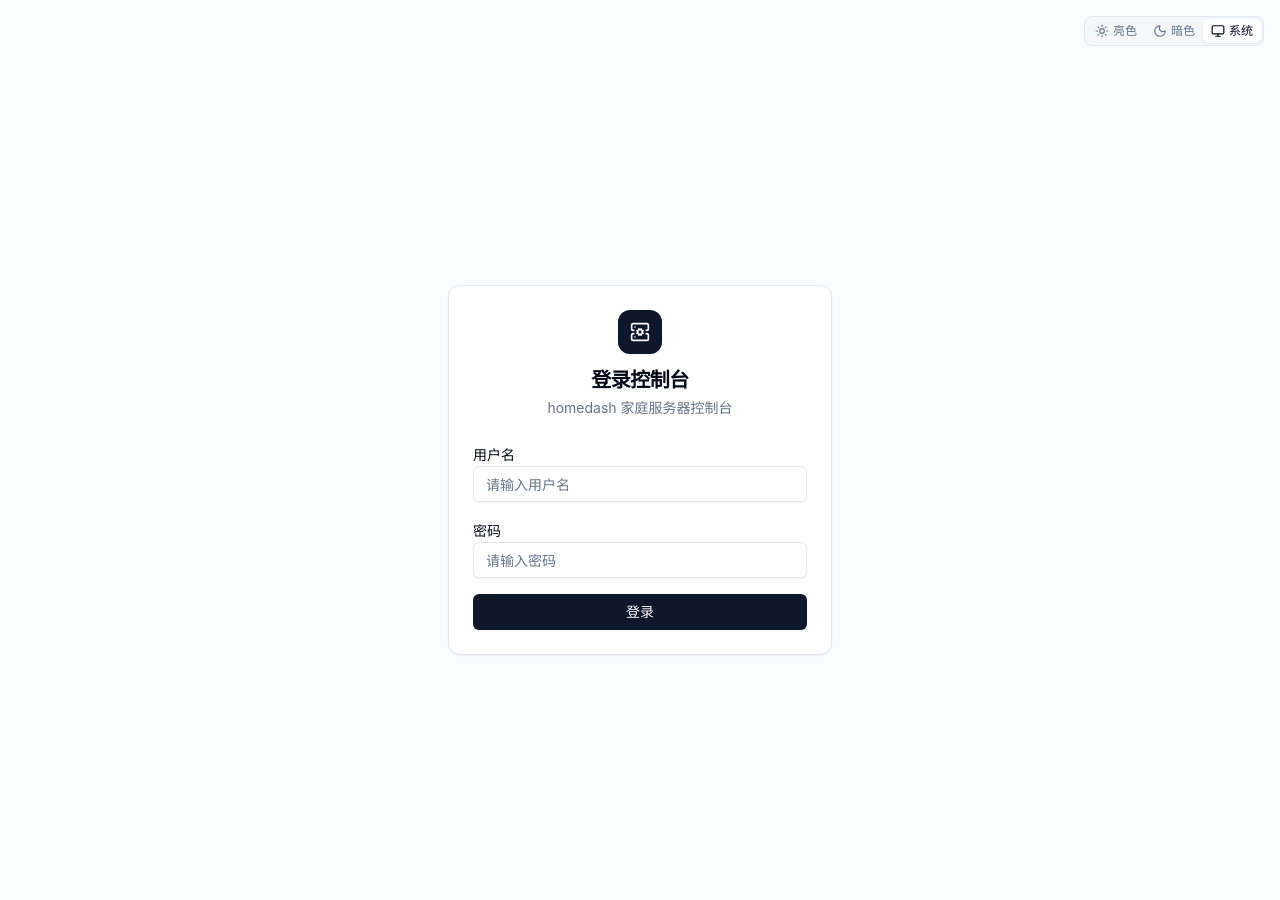
Scenario: homedash 前端认证与控制台 › 登录成功后进入控制台，展示总览卡片、占位页、404 页面并支持退出登录
This screenshot has width=1280, height=900.
Expected: the button "登录" is shown, [473,594,807,630]
Type "admin" into the field labelled "用户名".
click(640, 484); type("admin")  # box [473,466,807,502]
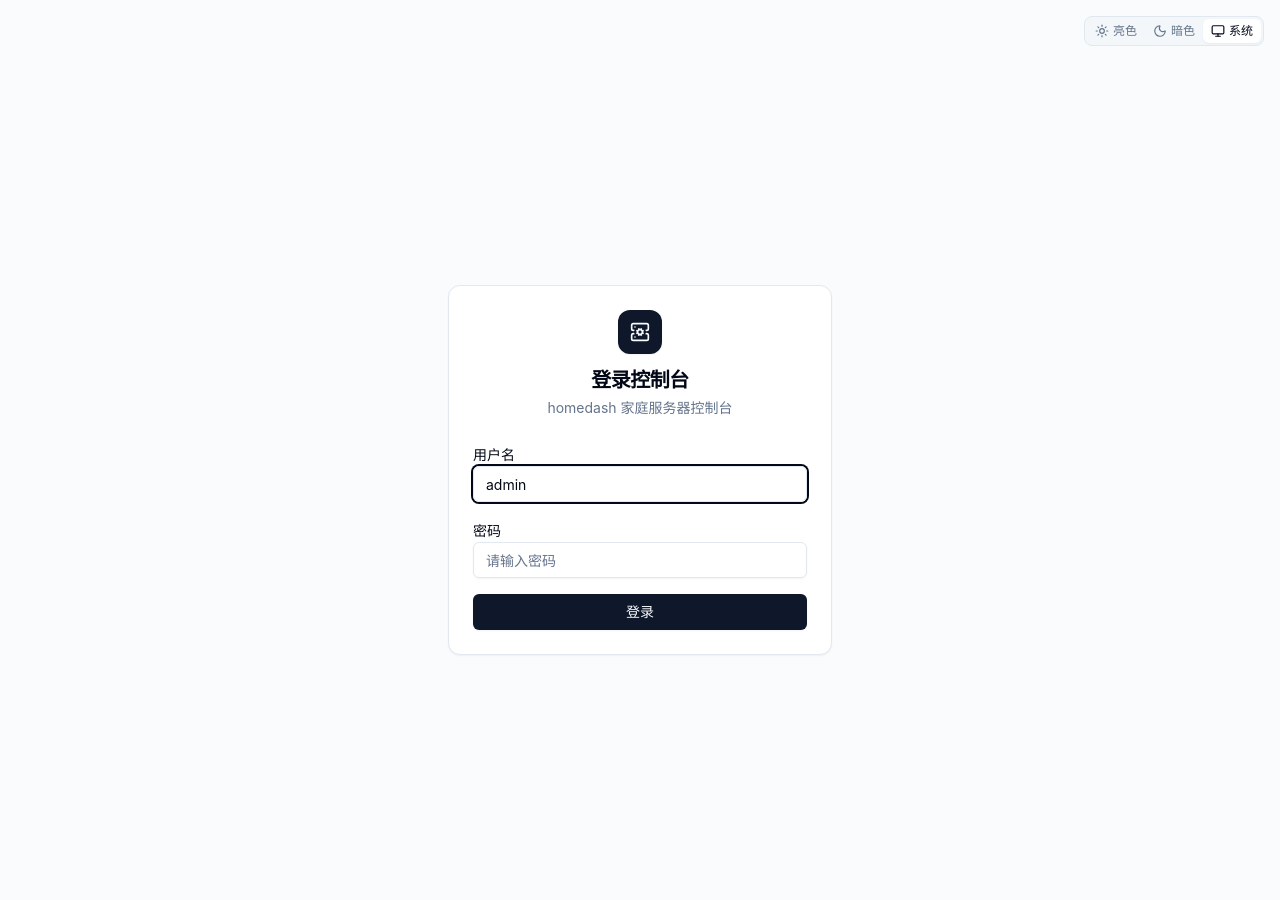
Type "secret-pass" into the password field labelled "密码".
click(640, 560); type("secret-pass")  # box [473,542,807,578]
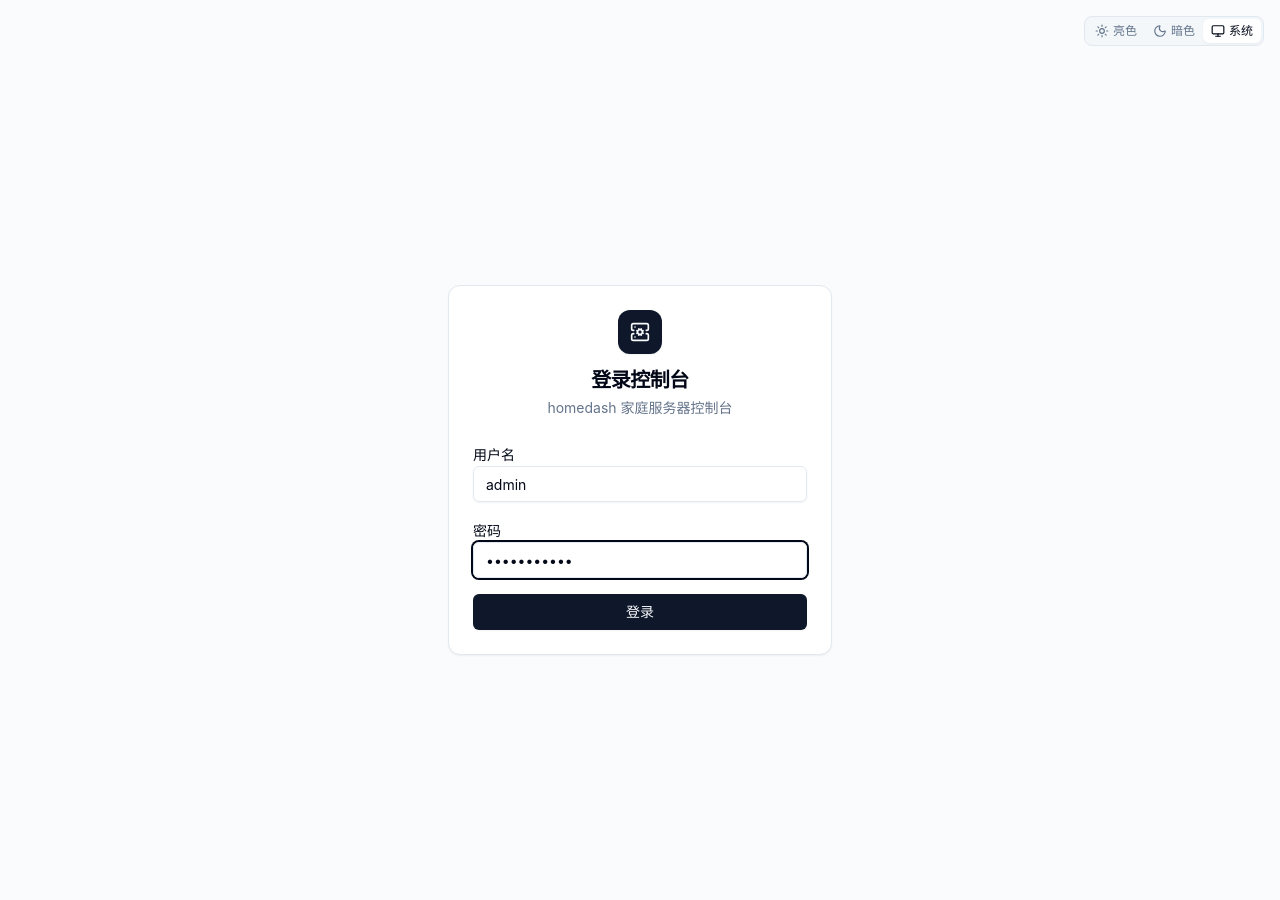
Click the button "登录".
click(640, 612)  # box [473,594,807,630]
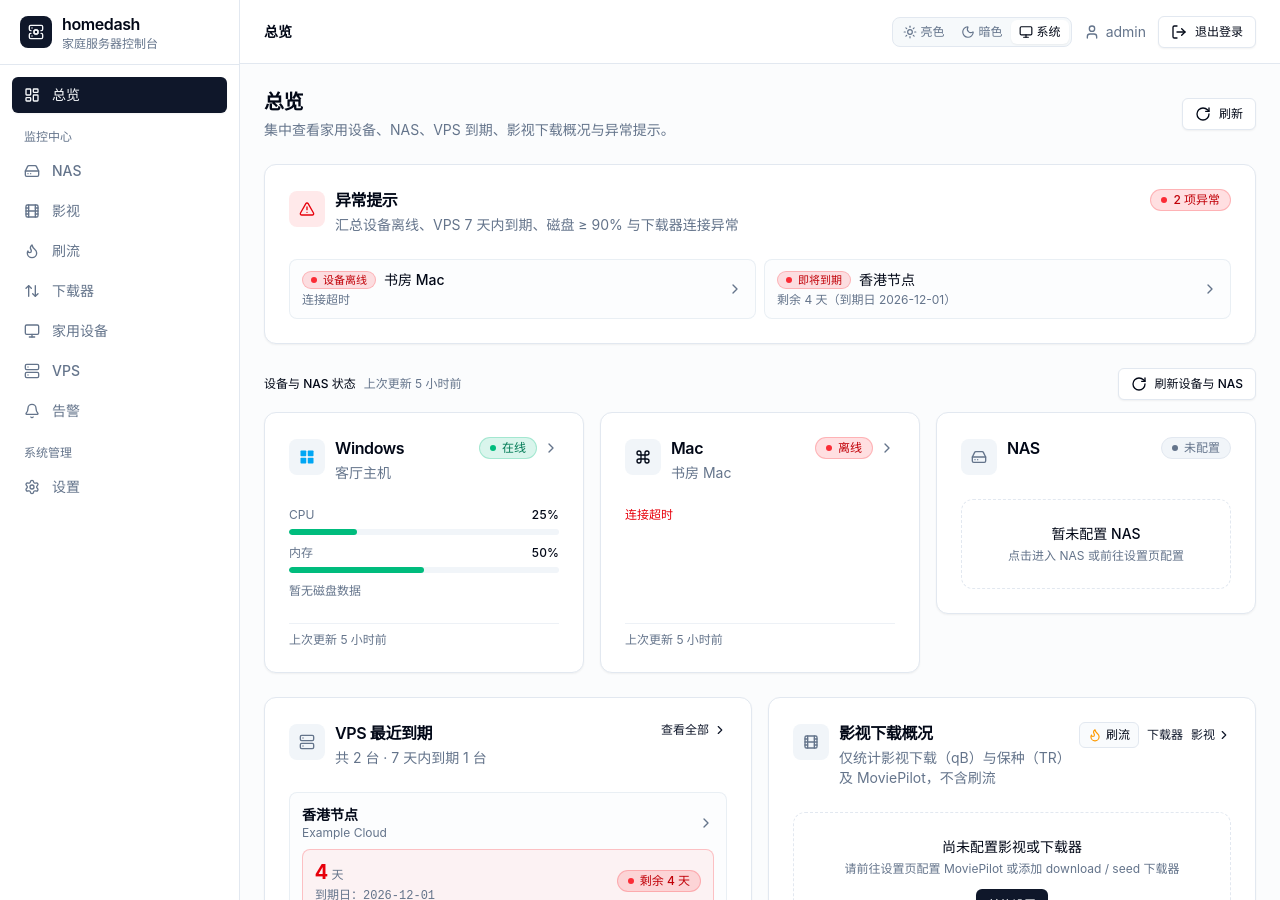
Expected: the heading "总览" is shown, [264,90,303,114]
Expected: the text "admin" is shown, [1106,22,1146,42]
Expected: the heading "异常提示" is shown, [335,189,397,211]
Click the link "NAS".
click(53, 170)  # box [24,162,82,179]
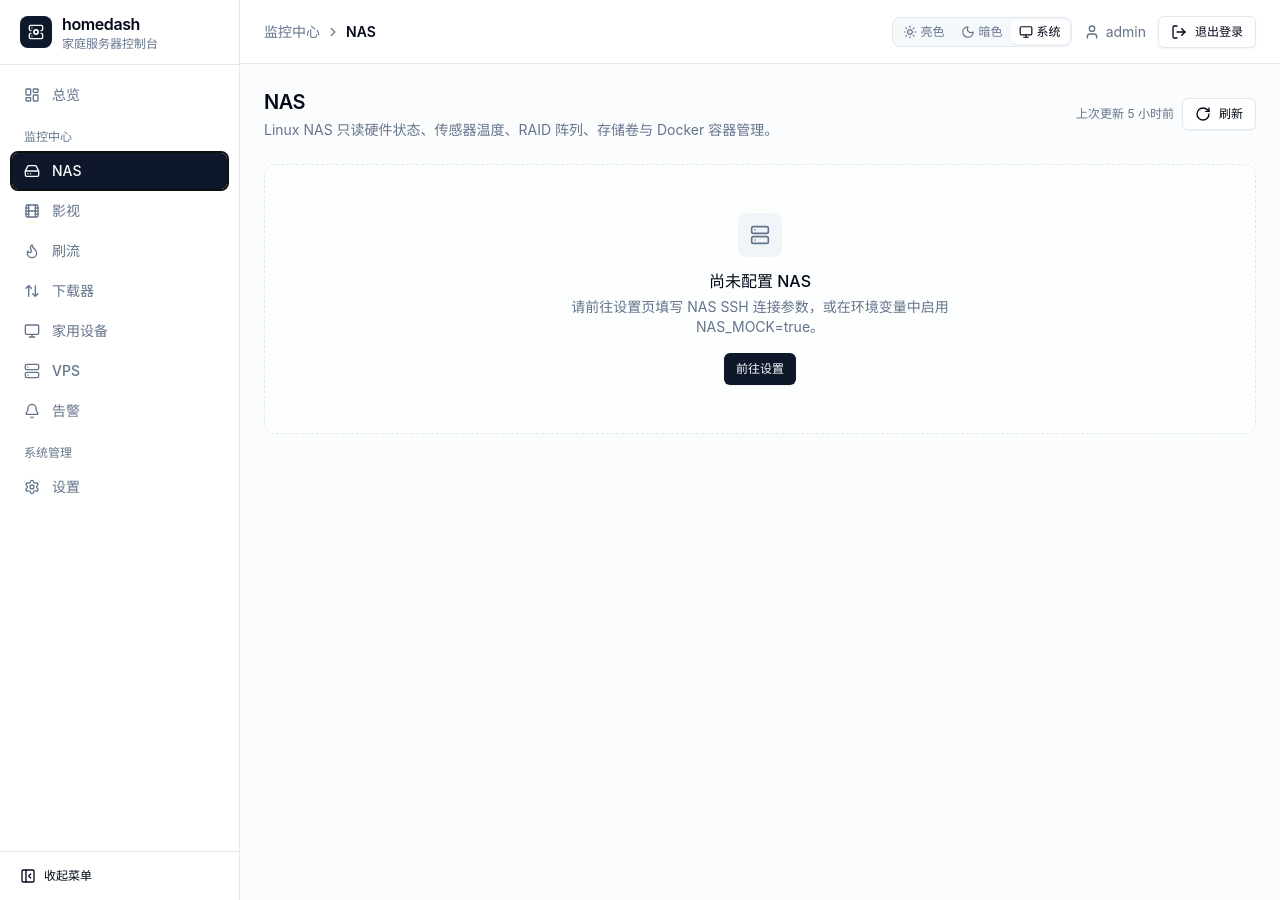
Expected: the heading "尚未配置 NAS" is shown, [709,269,811,293]
Click the button "退出登录".
click(1207, 32)  # box [1158,16,1256,48]
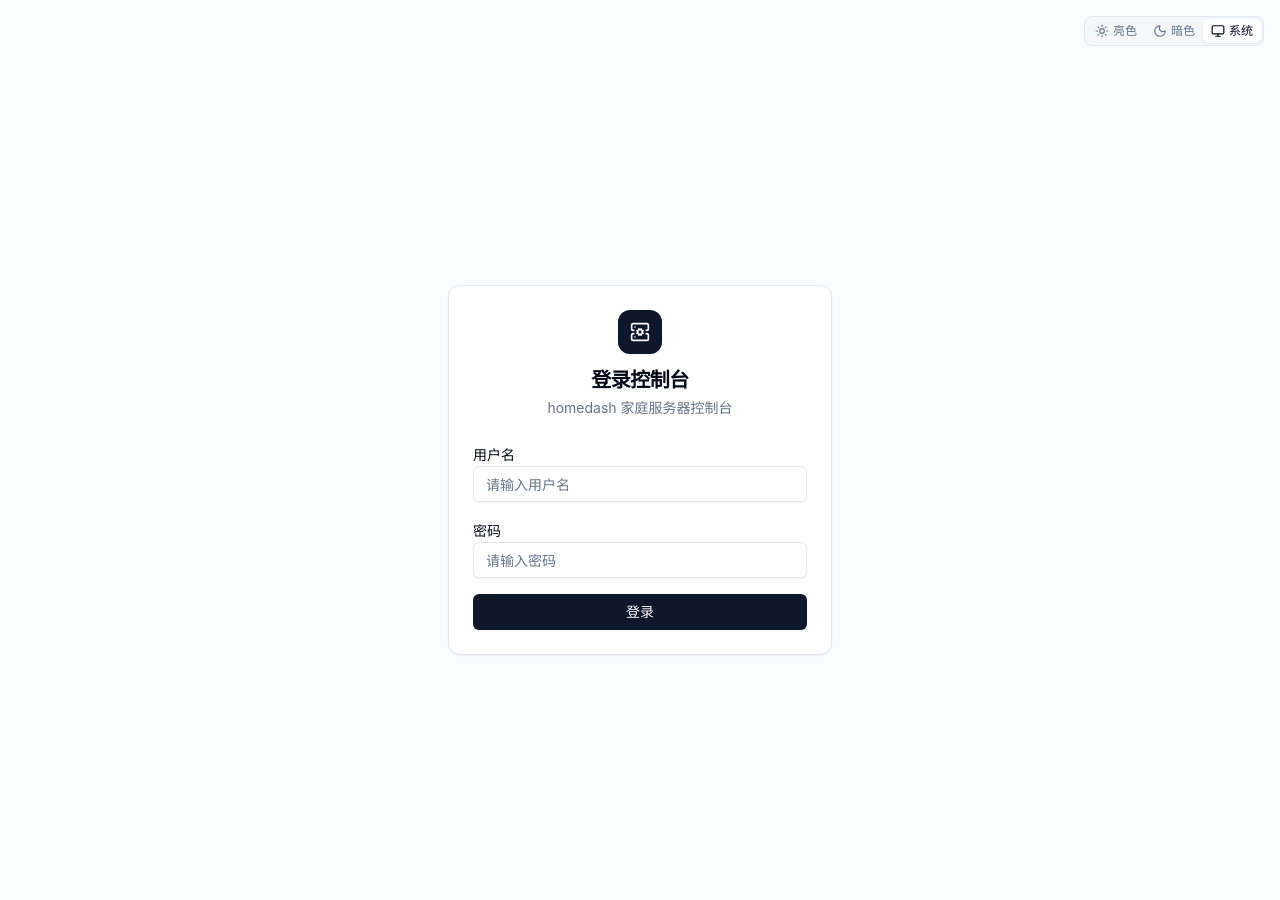
Expected: the heading "登录控制台" is shown, [591,368,689,392]
